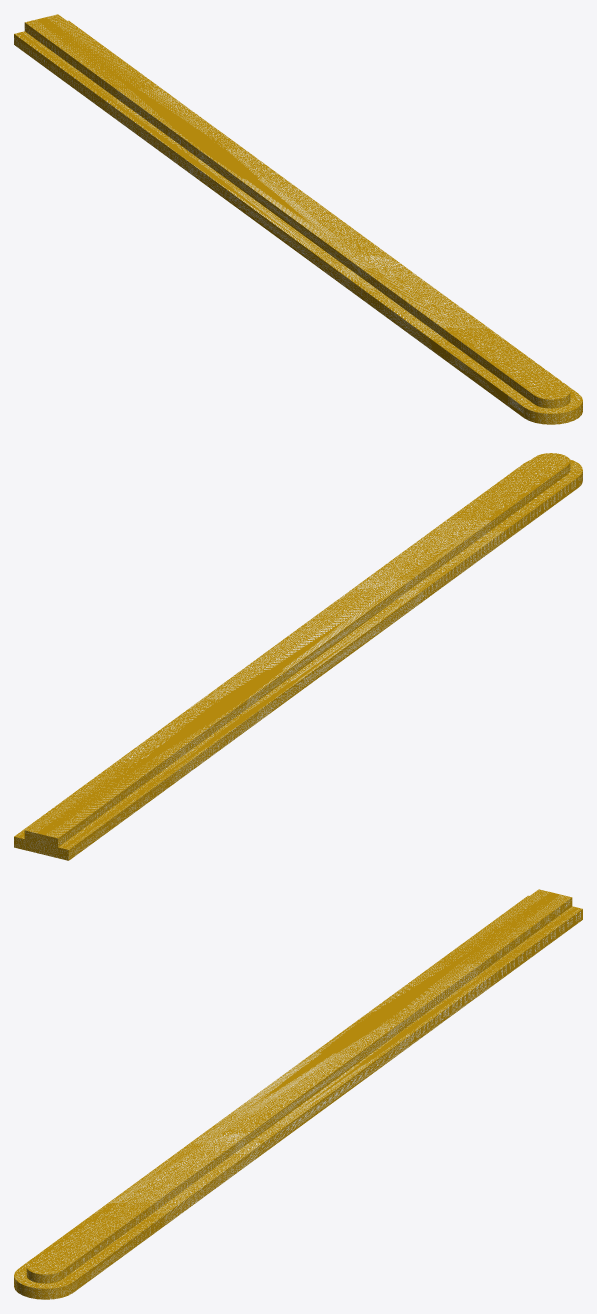
Rendered from original-32.obj.
3 views of the same model, one above another, from view 1: azimuth 30°, elevation 25°; view 2: azimuth 150°, elevation 25°; view 3: azimuth 330°, elevation 25° (orthographic).
Parts seen in each view (by area): view 1: Group30/mesh31/mesh31-geometry#mesh31-geometry; view 2: Group30/mesh31/mesh31-geometry#mesh31-geometry; view 3: Group30/mesh31/mesh31-geometry#mesh31-geometry.
Part boxes in pixels (box(x1,y1,x2,y2)): Group30/mesh31/mesh31-geometry#mesh31-geometry: box(14, 14, 582, 424); Group30/mesh31/mesh31-geometry#mesh31-geometry: box(14, 453, 582, 860); Group30/mesh31/mesh31-geometry#mesh31-geometry: box(14, 889, 582, 1299).
Bounding box in the file's own units: 0.0218 × 0.00751 × 0.3621.
